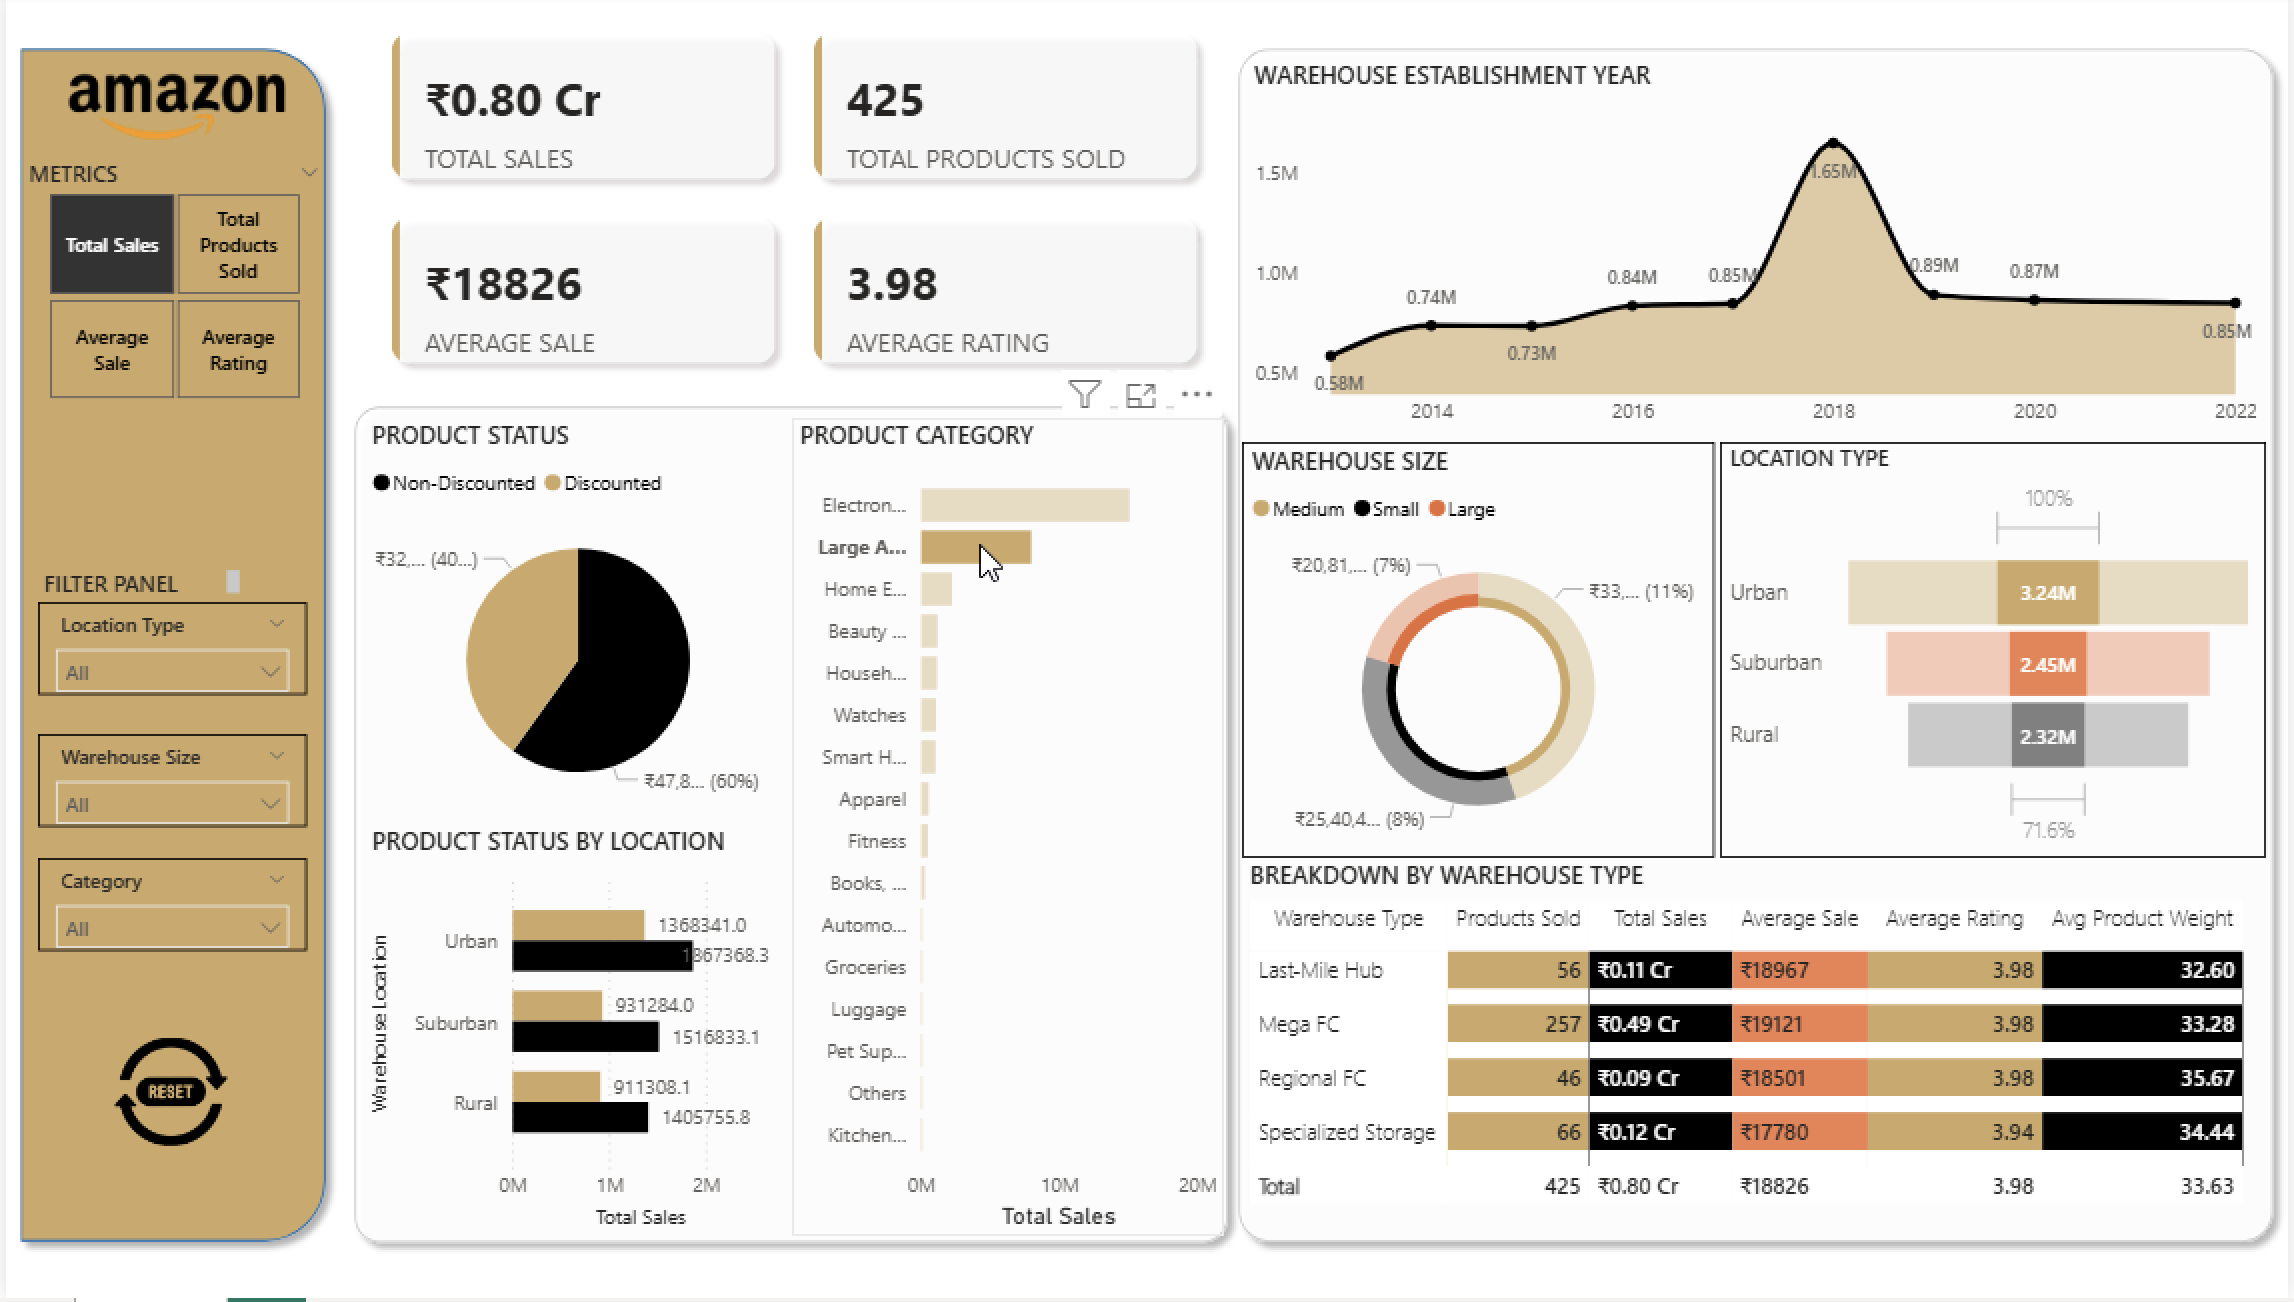

The page's visual inventory and layout, read from the dashboard file:
{"tool":"powerbi","page":{"name":"Page 1","canvas":[1400,800],"ordinal":0},"visuals":[{"type":"shape","box":[0,24.9,205,749.7],"z":0},{"type":"image","box":[0,39.6,205.1,58],"z":1000},{"type":"cardVisual","fields":{"Data":["Sheet 1 - FINAL FILE.Total Sales","Sheet 1 - FINAL FILE.Total Products Sold","Sheet 1 - FINAL FILE.Average Sale","Sheet 1 - FINAL FILE.Average Rating"]},"box":[219.3,6.8,528,236.9],"z":2000},{"type":"shape","box":[204.4,243.7,553.8,530.8],"z":3000},{"type":"pieChart","title":"PRODUCT STATUS","fields":{"Y":["Sheet 1 - FINAL FILE.Overall Sales"],"Category":["Sheet 1 - FINAL FILE.Product Status"]},"box":[219.3,260,262.7,249.1],"z":4000},{"type":"slicer","fields":{"Values":["Metrics.Metrics"]},"box":[1.4,97.5,203.1,158.4],"z":5000},{"type":"clusteredBarChart","title":"PRODUCT STATUS BY LOCATION","fields":{"Y":["Sheet 1 - FINAL FILE.Overall Sales"],"Category":["Sheet 1 - FINAL FILE.Warehouse Location"],"Series":["Sheet 1 - FINAL FILE.Product Status"]},"box":[219.3,509.1,262.7,253.2],"z":6000},{"type":"barChart","title":"PRODUCT CATEGORY","fields":{"Y":["Sheet 1 - FINAL FILE.Overall Sales"],"Category":["Sheet 1 - FINAL FILE.Category"]},"box":[482,260,265.4,502.3],"z":7000},{"type":"shape","box":[747.4,24.4,652.6,750.1],"z":8000},{"type":"lineChart","title":"WAREHOUSE ESTABLISHMENT YEAR","fields":{"Y":["Sheet 1 - FINAL FILE.Overall Sales"],"Category":["Sheet 1 - FINAL FILE.Warehouse Establishment Year"]},"box":[761,39.2,625,235.4],"z":9000},{"type":"donutChart","title":"WAREHOUSE SIZE","fields":{"Y":["Sheet 1 - FINAL FILE.Overall Sales"],"Category":["Sheet 1 - FINAL FILE.Warehouse Size"]},"box":[758.2,274.7,290.1,255.1],"z":10000},{"type":"funnel","title":"LOCATION TYPE","fields":{"Category":["Sheet 1 - FINAL FILE.Warehouse Location"],"Y":["Sheet 1 - FINAL FILE.Overall Sales"]},"box":[1051.1,274.7,334.9,255.1],"z":11000},{"type":"pivotTable","title":"BREAKDOWN BY WAREHOUSE TYPE","fields":{"Rows":["Sheet 1 - FINAL FILE.Warehouse Type"],"Values":["Sheet 1 - FINAL FILE.Products Sold","Sheet 1 - FINAL FILE.Total Sales","Sheet 1 - FINAL FILE.Average Sale","Sheet 1 - FINAL FILE.Average Rating","Avg(Sheet 1 - FINAL FILE.Product Weight)"]},"box":[758.2,529.7,626.4,232.6],"z":12000},{"type":"slicer","fields":{"Values":["Sheet 1 - FINAL FILE.Warehouse Location"]},"box":[19.6,372.8,165.4,57.5],"z":13000},{"type":"slicer","fields":{"Values":["Sheet 1 - FINAL FILE.Warehouse Size"]},"box":[19.6,454.1,165.4,57.5],"z":14000},{"type":"slicer","fields":{"Values":["Sheet 1 - FINAL FILE.Category"]},"box":[19.6,529.7,165.4,57.5],"z":15000},{"type":"textbox","box":[19,348,130,24.4],"z":16000},{"type":"image","box":[58.8,635.1,84.8,76.1],"z":17000}]}

Visuals, with their boxes in screenshot pixels (x1, y1, x2, y2), scaled from the page's 1400x800 canvas onto the 2294x1302 screenshot:
shape: <bbox>0, 41, 336, 1261</bbox>
image: <bbox>0, 64, 336, 159</bbox>
cardVisual - Sheet 1 - FINAL FILE.Total Sales x Sheet 1 - FINAL FILE.Total Products Sold: <bbox>359, 11, 1225, 397</bbox>
shape: <bbox>335, 397, 1242, 1260</bbox>
"PRODUCT STATUS" pieChart: <bbox>359, 423, 790, 829</bbox>
slicer - Metrics.Metrics: <bbox>2, 159, 335, 416</bbox>
"PRODUCT STATUS BY LOCATION" clusteredBarChart: <bbox>359, 829, 790, 1241</bbox>
"PRODUCT CATEGORY" barChart: <bbox>790, 423, 1225, 1241</bbox>
shape: <bbox>1225, 40, 2293, 1260</bbox>
"WAREHOUSE ESTABLISHMENT YEAR" lineChart: <bbox>1247, 64, 2271, 447</bbox>
"WAREHOUSE SIZE" donutChart: <bbox>1242, 447, 1718, 862</bbox>
"LOCATION TYPE" funnel: <bbox>1722, 447, 2271, 862</bbox>
"BREAKDOWN BY WAREHOUSE TYPE" pivotTable: <bbox>1242, 862, 2269, 1241</bbox>
slicer - Sheet 1 - FINAL FILE.Warehouse Location: <bbox>32, 607, 303, 700</bbox>
slicer - Sheet 1 - FINAL FILE.Warehouse Size: <bbox>32, 739, 303, 833</bbox>
slicer - Sheet 1 - FINAL FILE.Category: <bbox>32, 862, 303, 956</bbox>
textbox: <bbox>31, 566, 244, 606</bbox>
image: <bbox>96, 1034, 235, 1157</bbox>
